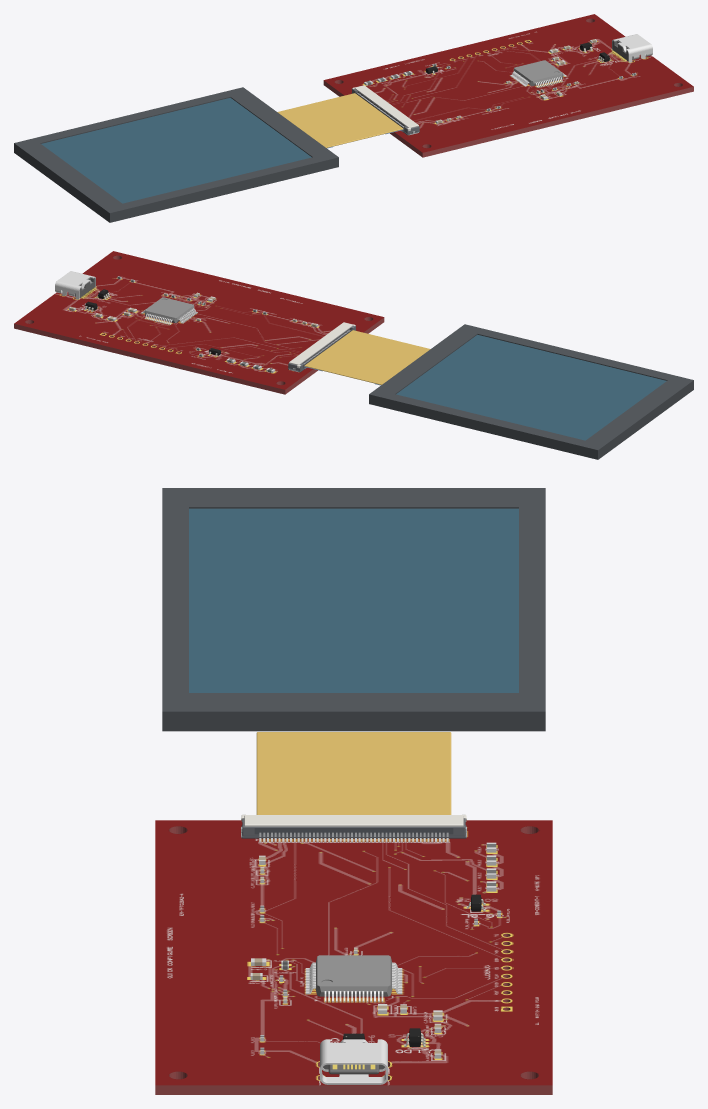
3 renders of one model, top to bottom at view 1: azimuth 30°, elevation 25°; view 2: azimuth 150°, elevation 25°; view 3: azimuth 270°, elevation 25°, orthographic. The views are drawn at different scales.
Visible parts, largest first — view 1: J_DISPLAY, Box0, U_MAIN, J_USB; view 2: J_DISPLAY, Box0, U_MAIN, J_USB; view 3: J_DISPLAY, Box0, U_MAIN, J_USB.
Part boxes in pixels (box(x1,y1,x2,y2)): J_DISPLAY: box(14, 85, 419, 222); Box0: box(323, 14, 693, 157); U_MAIN: box(510, 60, 566, 87); J_USB: box(611, 34, 652, 62); J_DISPLAY: box(288, 322, 693, 459); Box0: box(14, 251, 384, 394); U_MAIN: box(141, 297, 197, 324); J_USB: box(55, 271, 96, 299); J_DISPLAY: box(162, 488, 545, 842); Box0: box(155, 820, 552, 1094); U_MAIN: box(305, 955, 402, 1002); J_USB: box(320, 1039, 387, 1084).
Bounding box in the file's own units: 176 × 5.53 × 52.
Materials: 27 (2 with a texture image).
